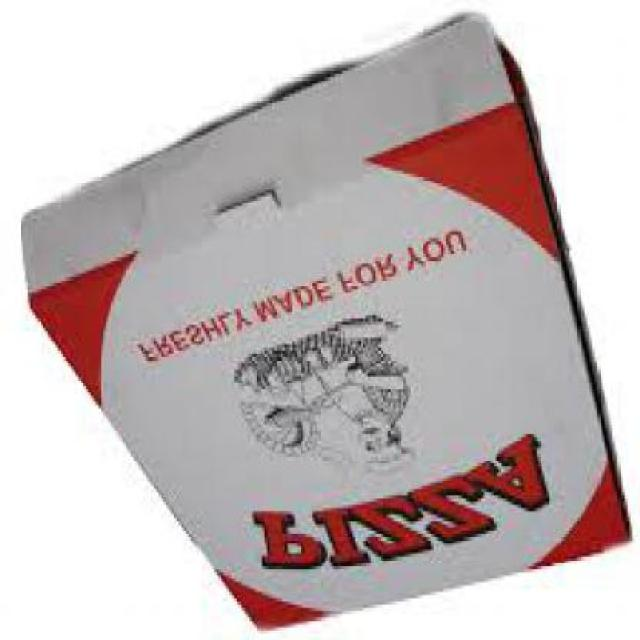CARDBOARD: (18, 18, 630, 634)
